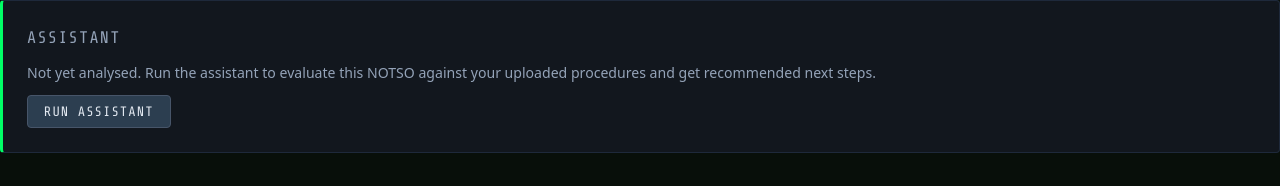
the assistant panel › runs the assistant, saying so meanwhile, and shows what it found
Later steps or results of the test are not shown.
Click the button "Run assistant": (99, 112) [27, 95, 171, 128]
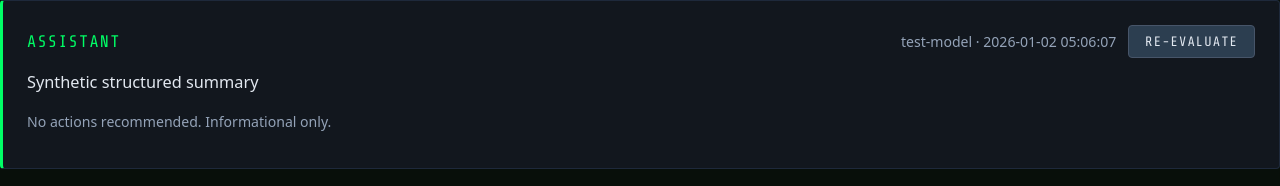
Now the text "Synthetic structured summary" is shown, box [27, 71, 258, 93]
Now the text "No actions recommended. Informational only." is shown, box [27, 112, 331, 131]
